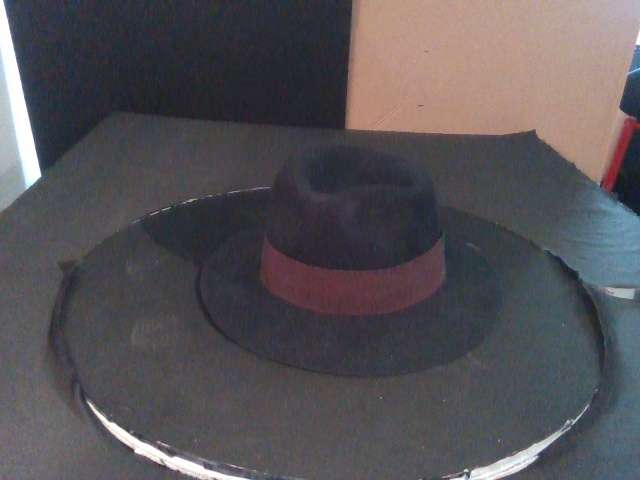hat: (199, 145, 503, 377)
